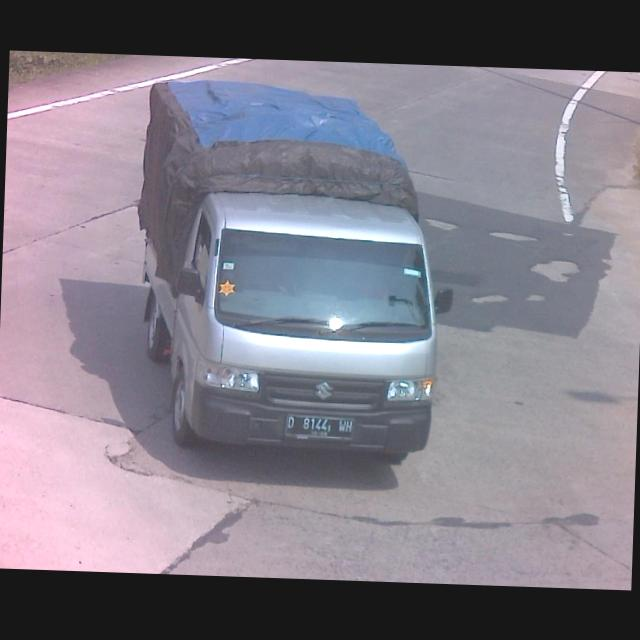plate: (284, 413, 355, 441)
